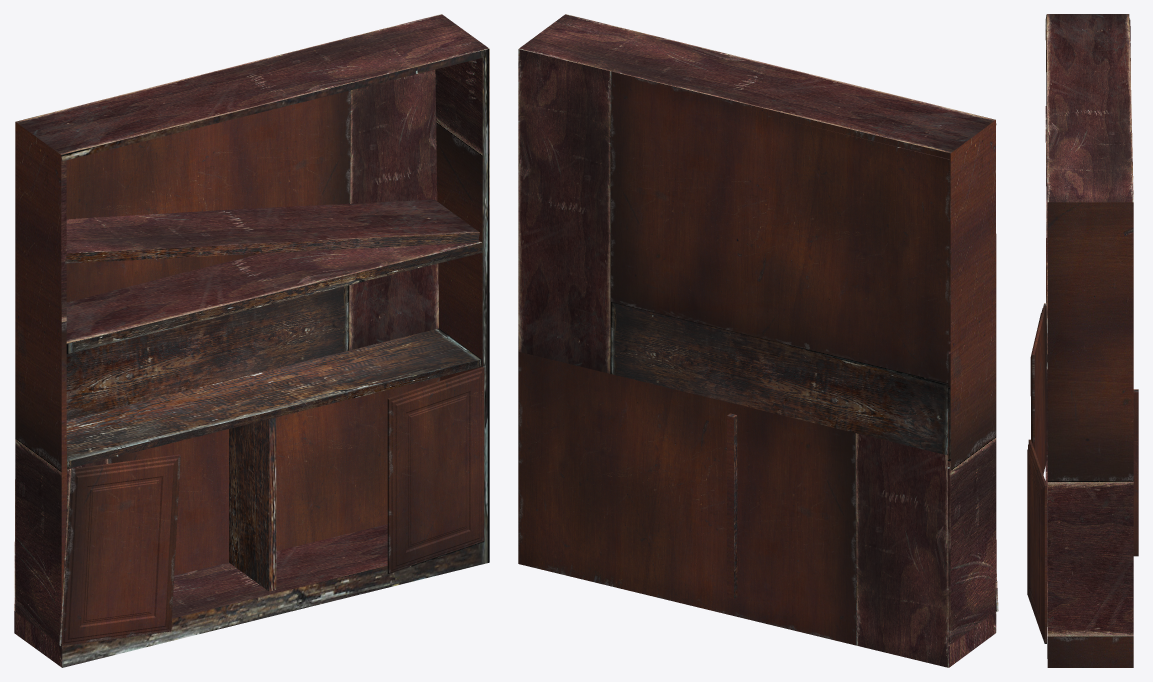
Rendered from servant.FBX.
3 renders of one model, left to right at view 1: azimuth 30°, elevation 25°; view 2: azimuth 150°, elevation 25°; view 3: azimuth 270°, elevation 25°, orthographic. The views are drawn at different scales.
Visible parts, largest first — view 1: Servant, obj_40, obj_41; view 2: Servant; view 3: Servant, obj_41, obj_40.
Boxes of the visible parts, <box> form: Servant: <box>14,14,489,667</box>; obj_40: <box>59,454,180,646</box>; obj_41: <box>387,367,484,573</box>; Servant: <box>518,14,996,667</box>; Servant: <box>1045,14,1138,667</box>; obj_41: <box>1027,439,1046,643</box>; obj_40: <box>1030,303,1046,474</box>.
Size of the model in its own units: 72.02 by 82.12 by 17.79.
